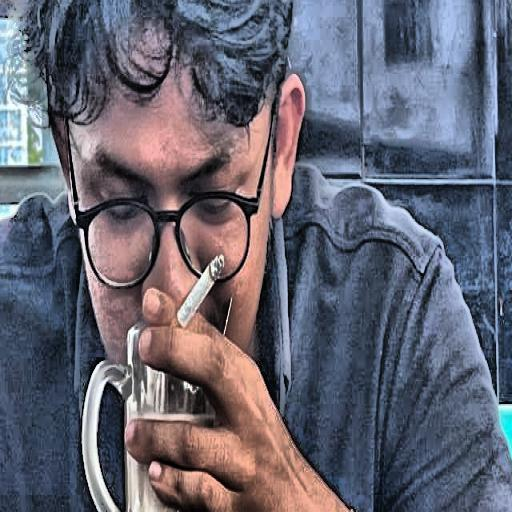Asbak: (177, 255, 223, 324)
Merokok: (125, 270, 350, 512)
